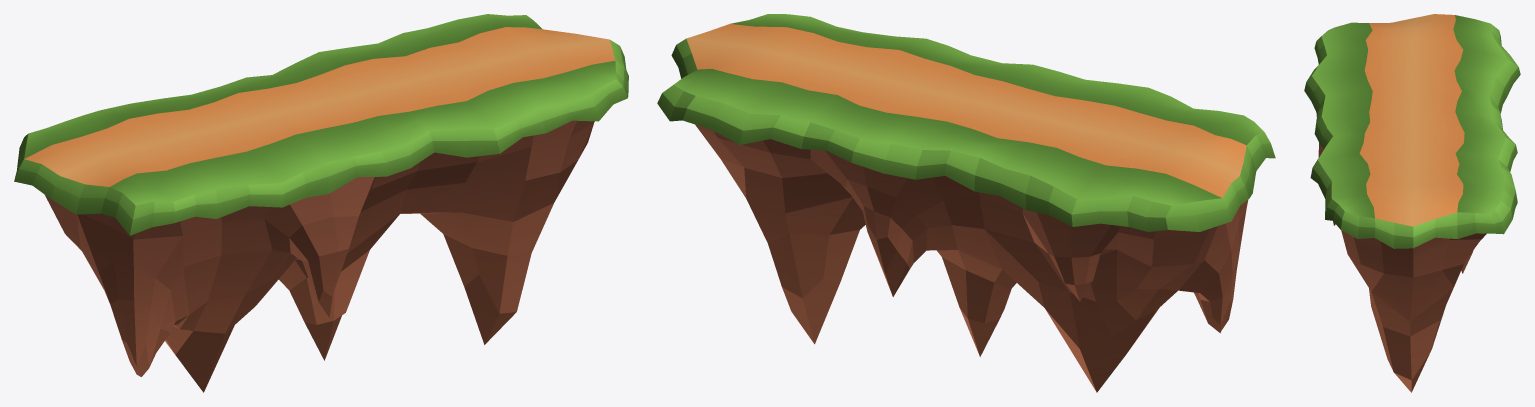
The model's file is island.fbx.
The picture shows the model from 3 angles, left to right: view 1: azimuth 30°, elevation 25°; view 2: azimuth 150°, elevation 25°; view 3: azimuth 270°, elevation 25°; orthographic projection. The views are drawn at different scales.
Visible parts, largest first — view 1: island; view 2: island; view 3: island.
Boxes of the visible parts, x1,y1,x2,y2 form: island: [14, 14, 628, 392]; island: [657, 14, 1275, 392]; island: [1304, 14, 1520, 392].
Bounding box in the file's own units: 106 × 48.93 × 43.64.
